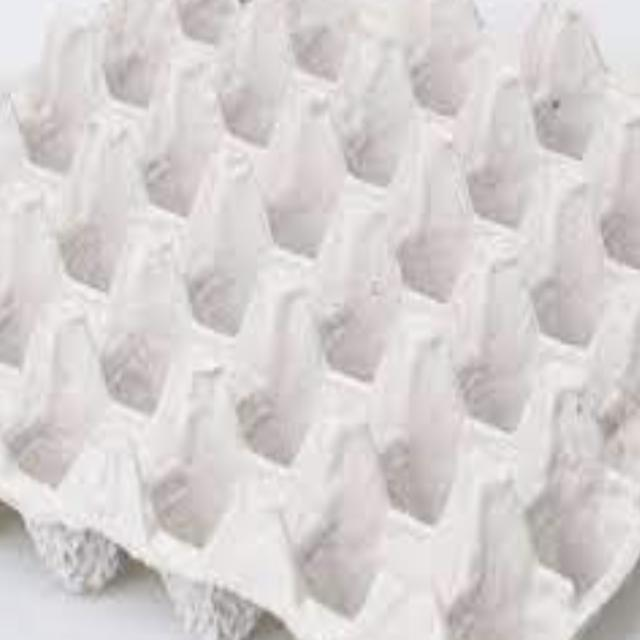biodegradable: (20, 22, 620, 640)
